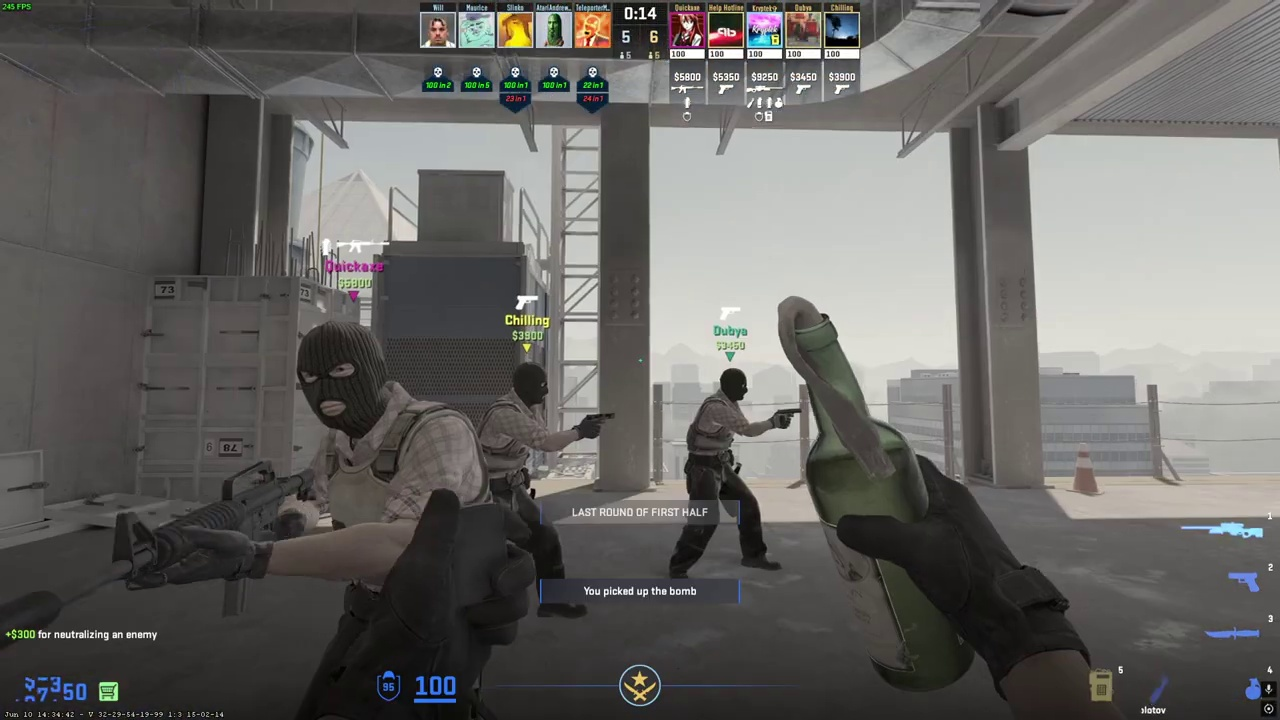Terrorist: (279, 319, 481, 719), (478, 362, 582, 616), (677, 367, 777, 582)
